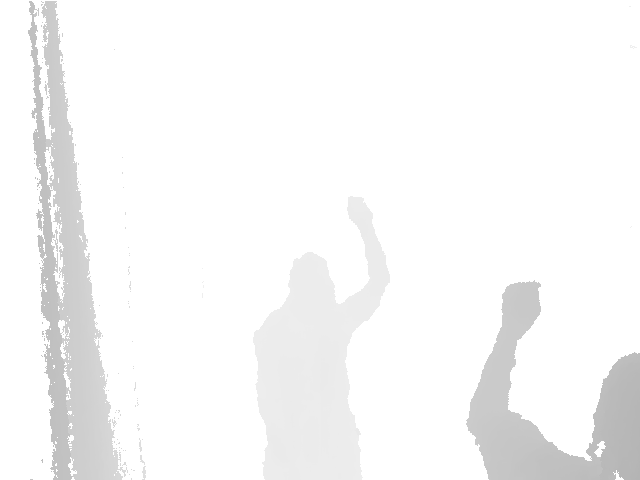hand: (500, 281, 543, 336), (346, 195, 374, 226)
head: (287, 251, 335, 305)
person: (250, 195, 393, 480), (463, 280, 640, 480)
